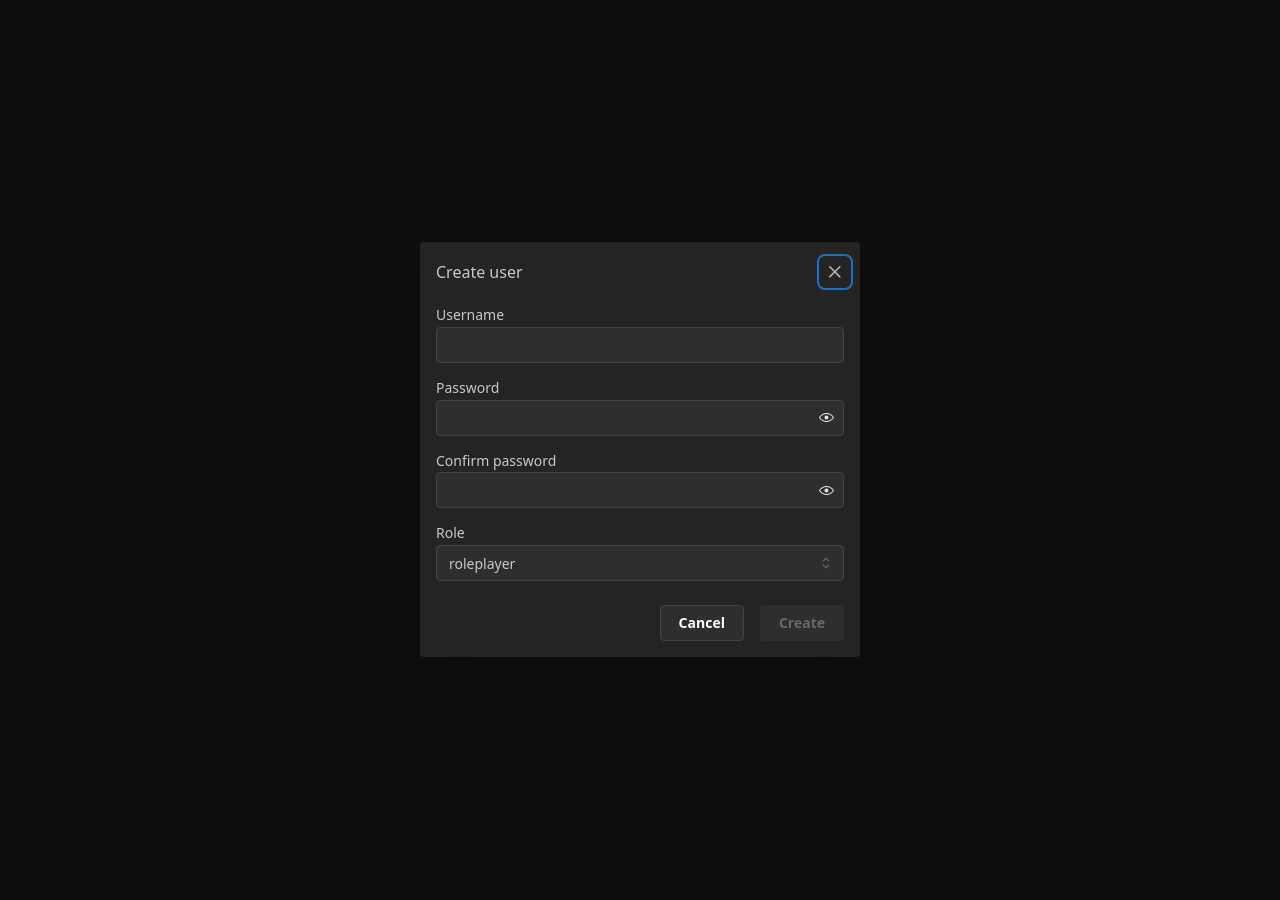
Test: the modal's fields › the role select offers exactly the two ladder values — DoD-8
The width and height of the screenshot is (1280, 900).
Click the field labelled "Role" at (640, 564), box x1=436 y1=546 x2=844 y2=582
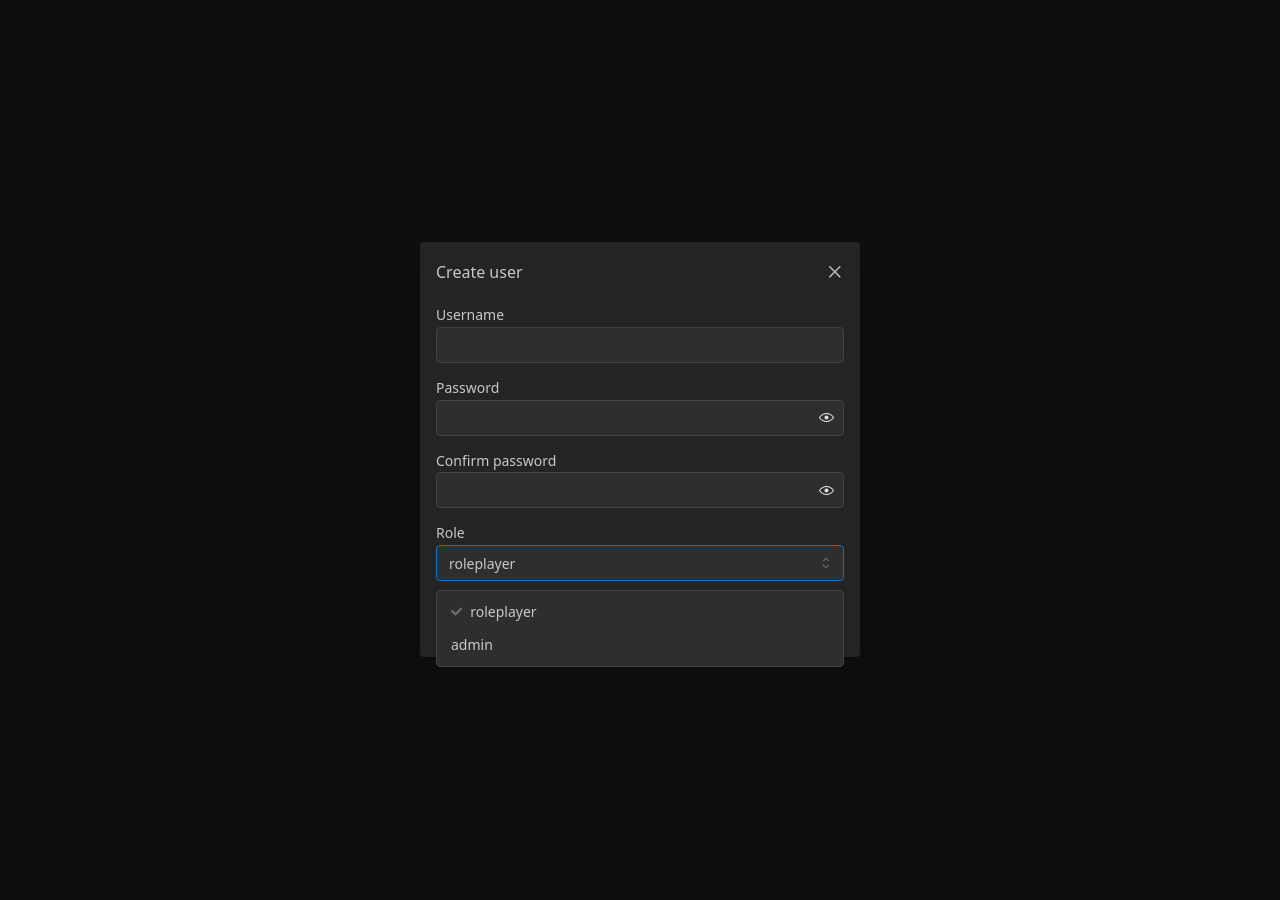
expect the number of options is 2: met, box x1=451 y1=602 x2=537 y2=621; x1=451 y1=635 x2=493 y2=654
